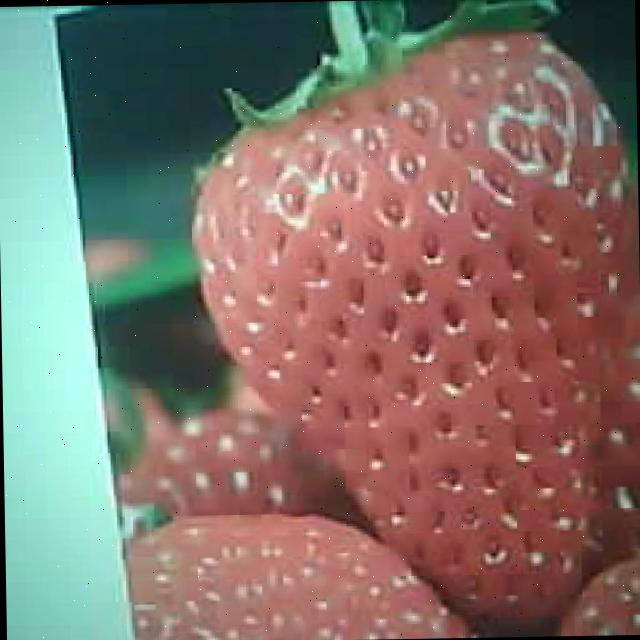strawberry: (190, 27, 634, 618)
